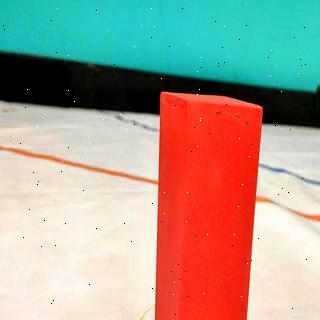redbox: (160, 93, 254, 320)
